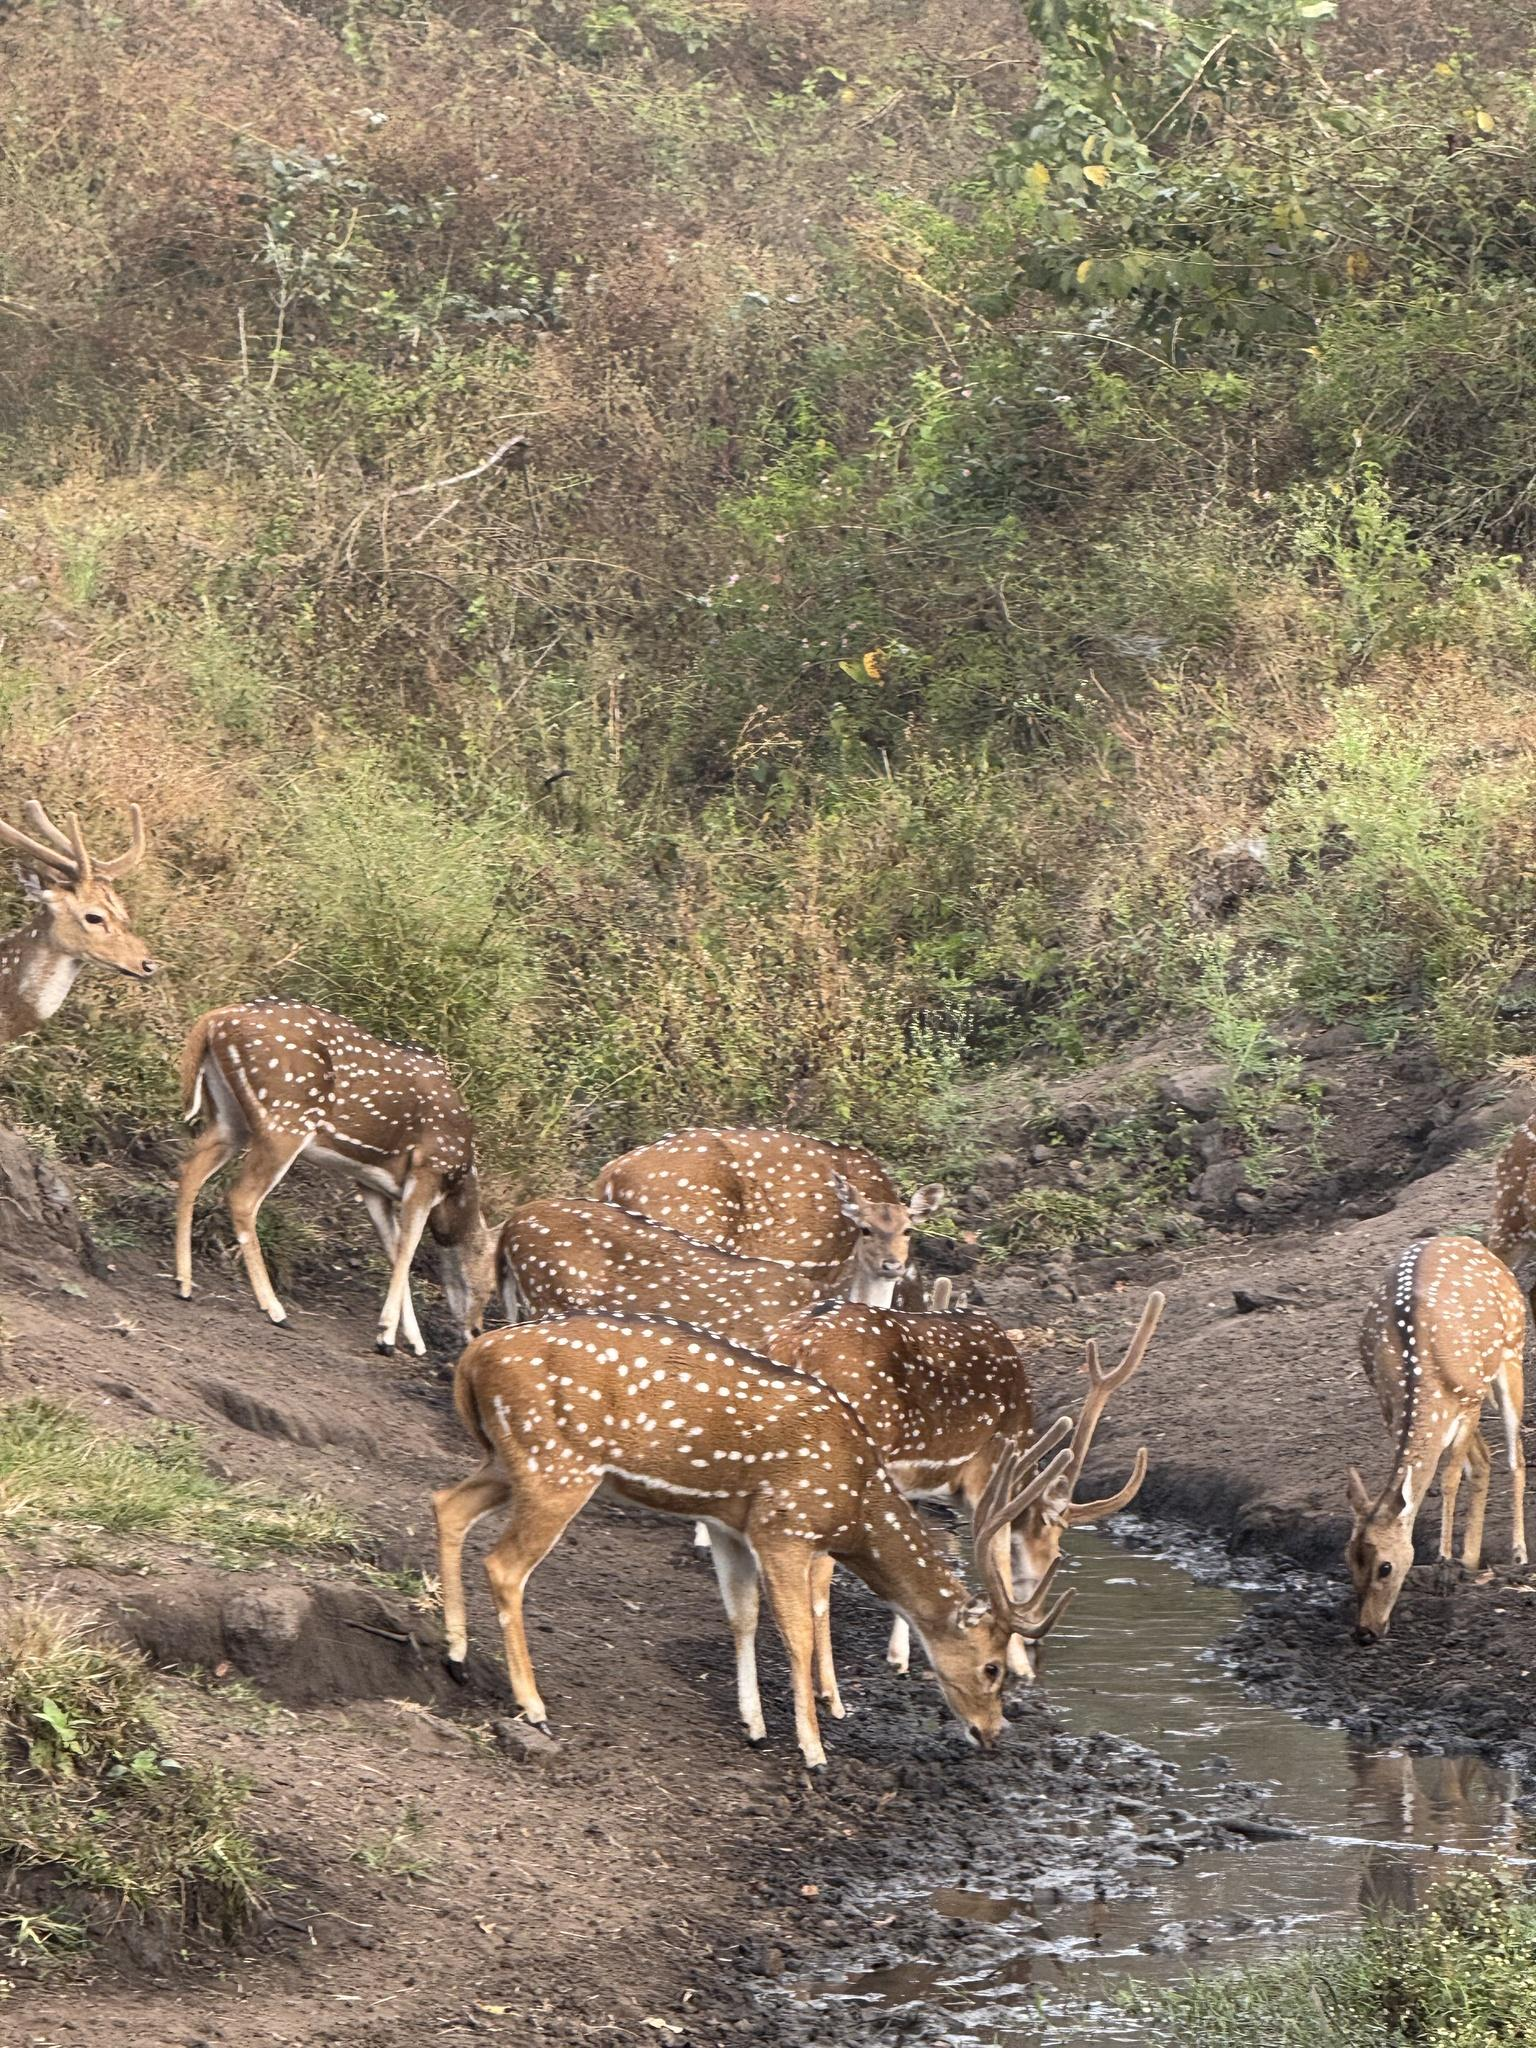Deer: (436, 1184, 1000, 1769), (176, 1000, 489, 1355), (1347, 1235, 1526, 1640), (591, 1127, 895, 1284), (0, 800, 160, 1040)
